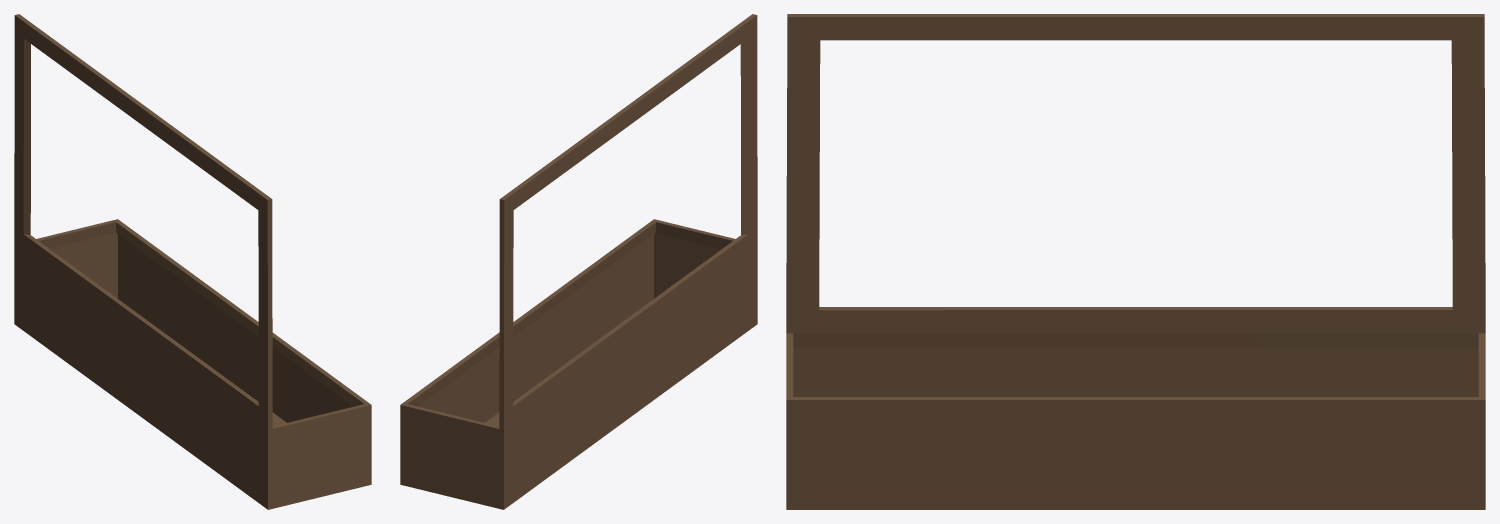
Rendered from flower_patch.FBX.
3 views of the same model, side by side, from view 1: azimuth 30°, elevation 25°; view 2: azimuth 150°, elevation 25°; view 3: azimuth 270°, elevation 25° (orthographic). The views are drawn at different scales.
Visible parts, largest first — view 1: flower_patch; view 2: flower_patch; view 3: flower_patch.
Boxes of the visible parts, x1,y1,x2,y2 form: flower_patch: [14, 14, 371, 509]; flower_patch: [400, 14, 757, 509]; flower_patch: [786, 14, 1485, 509].
Bounding box in the file's own units: 63.31 × 181 × 269.
